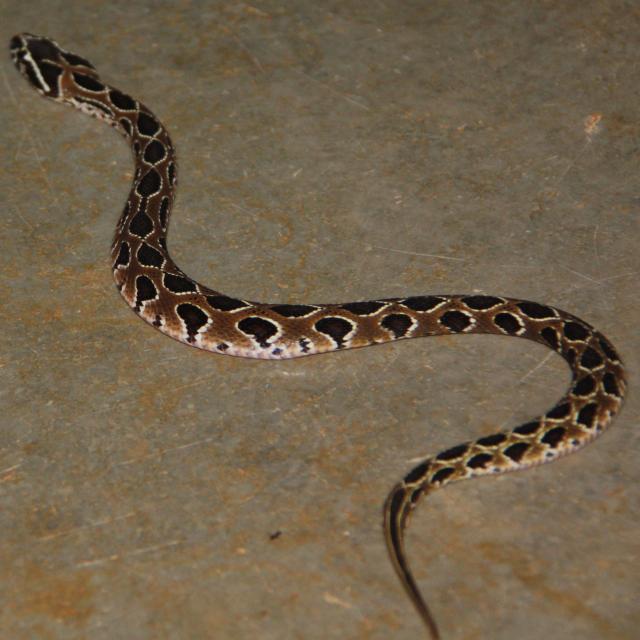Snake: (8, 29, 628, 638)
